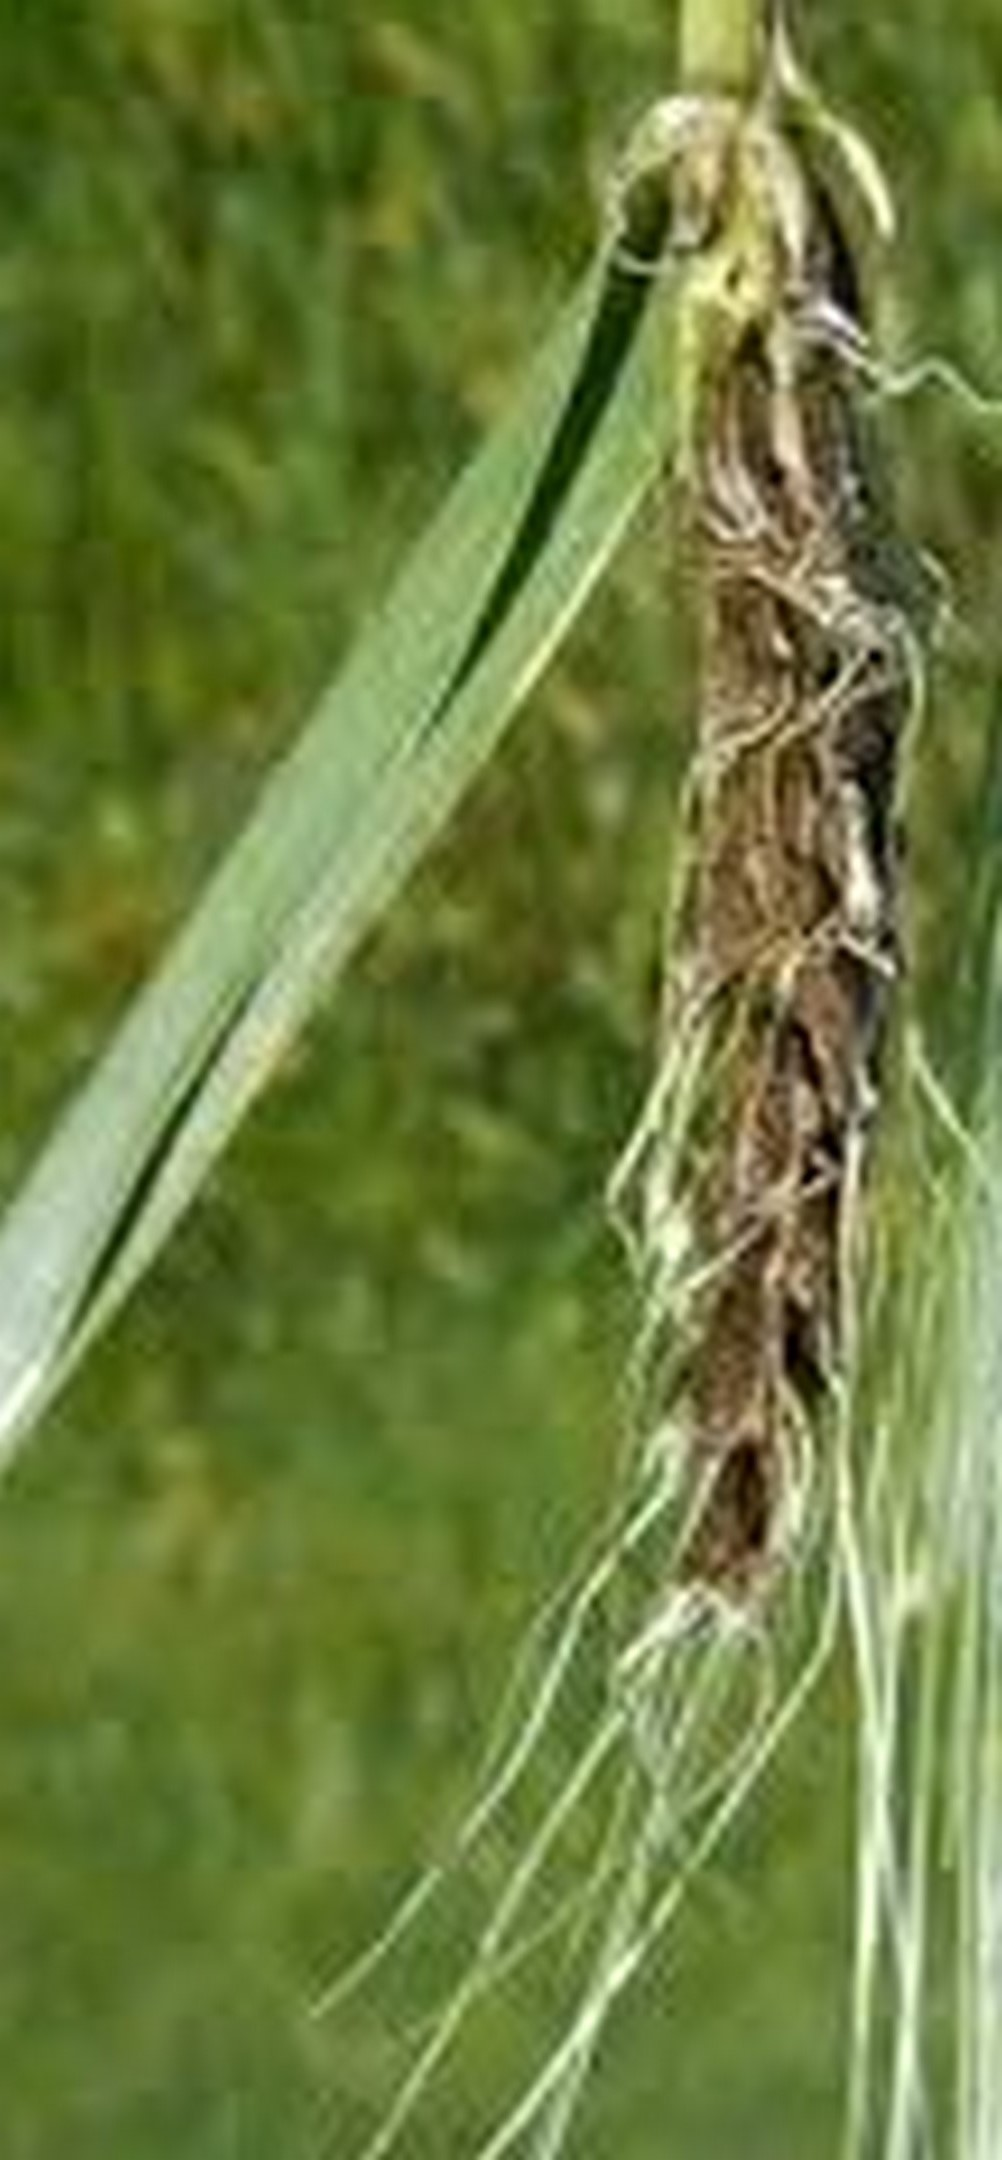Wheat Loose Smut: (544, 256, 988, 1649)
